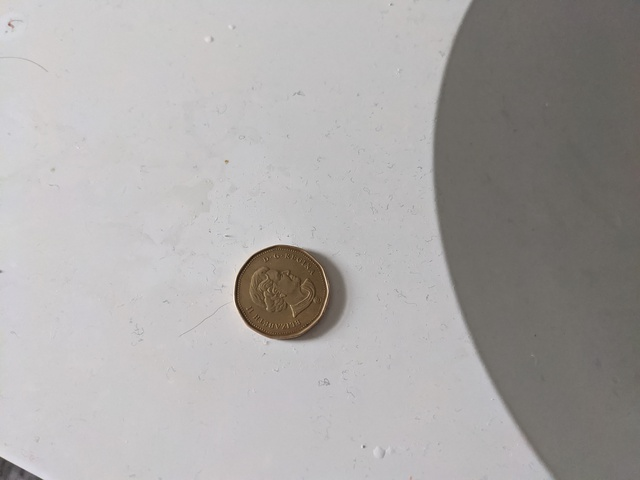loonie: (225, 245, 337, 346)
